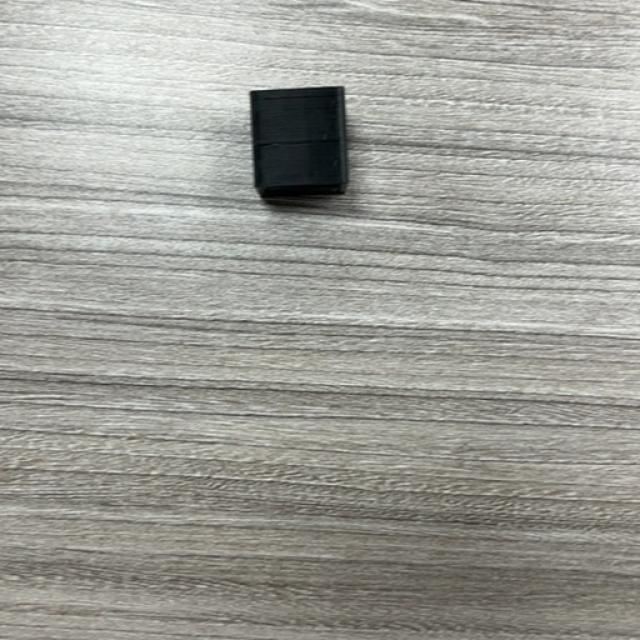Negro: (250, 86, 350, 202)
